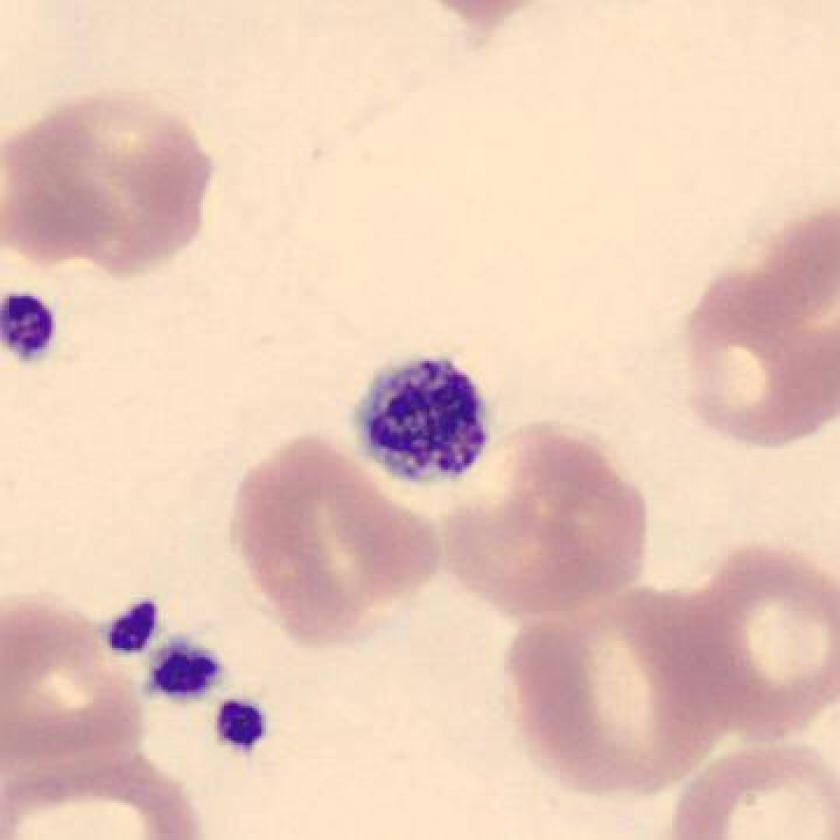platelets: (342, 337, 505, 503), (132, 635, 227, 716), (94, 591, 176, 670), (202, 691, 279, 765)
